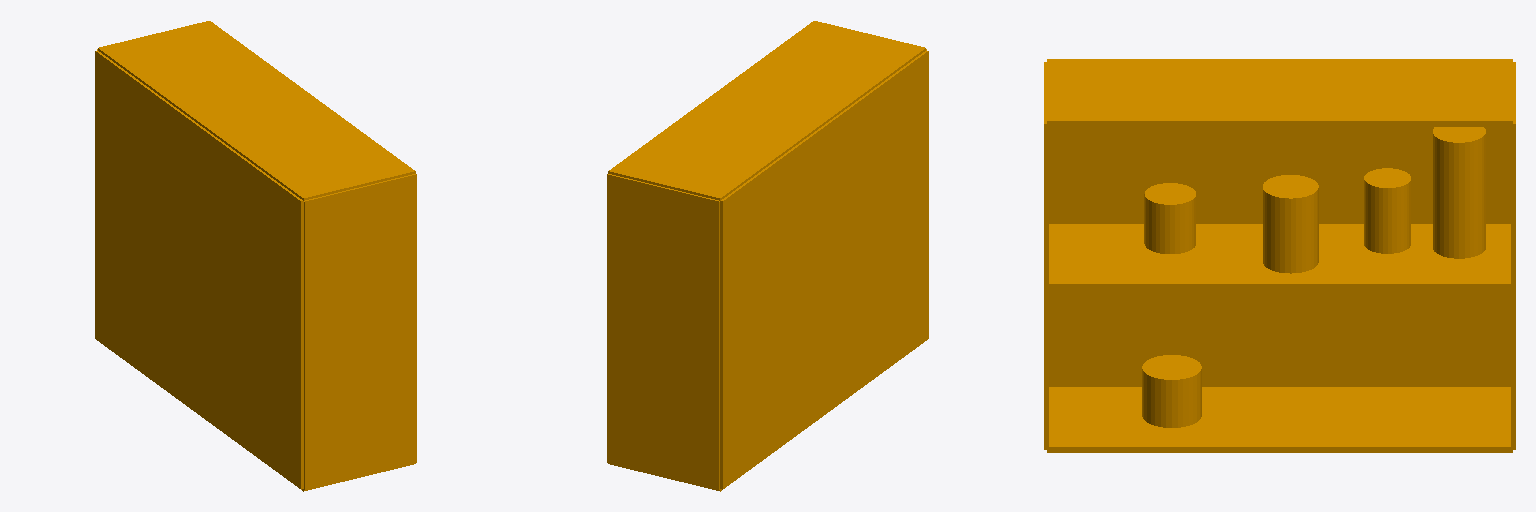
URDF robot description (syn_can_cabinet_898):
<?xml version="1.0" ?>
<robot name="syn_can_cabinet_898">
    <link concave="yes" name="base_link">
        <inertial>
            <origin rpy="0 0 0" xyz="0 0 0"/>
            <mass value="0.0"/>
            <inertia ixx="1e-08" ixy="0" ixz="0" iyy="1e-08" iyz="0" izz="1e-08"/>
        </inertial>
        <visual>
            <origin xyz="0 0 0" rpy="0 0 0" />
            <geometry>
                <mesh filename="syn_can_cabinet_898.obj" scale="1.000000 1.000000 1.000000"/>
            </geometry>         
        </visual>

        <collision concave="yes">
            <origin xyz="0 0 0" rpy="0 0 0"/>
            <geometry>
                <mesh filename="syn_can_cabinet_898.obj" scale="1.000000 1.000000 1.000000"/>
            </geometry>
        </collision>
    </link>
</robot>
    

--- Facts derived from the render (not from the file) ---
3 views of the same robot in one strip: view 1: azimuth 30°, elevation 25°; view 2: azimuth 150°, elevation 25°; view 3: azimuth 270°, elevation 25° (orthographic).
Model syn_can_cabinet_898 with 1 links and 0 joints (none), rooted at base_link, posed every joint at zero.
Links seen in each view (by area): view 1: base_link; view 2: base_link; view 3: base_link.
Link boxes in pixels (bbox=[...]): base_link: bbox=[95, 21, 416, 491]; base_link: bbox=[607, 21, 928, 491]; base_link: bbox=[1044, 59, 1515, 452].
Bounding box of the posed robot: 0.1559 × 0.4904 × 0.3814 m (x, y, z).
Meshes: 1 distinct files referenced, 1 mesh visuals loaded (1 OBJ).
